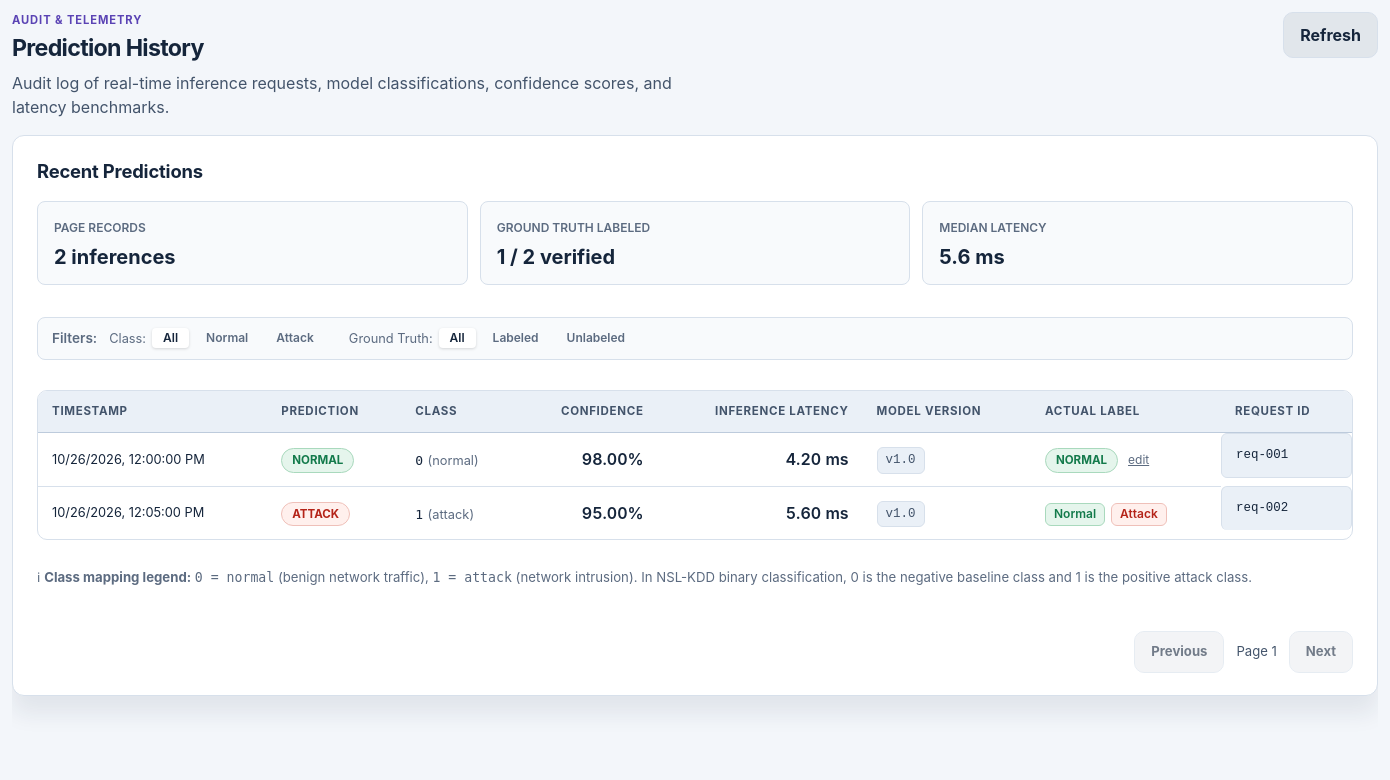
Test case: PredictionHistory › displays summary telemetry and filters records by class and label status
The width and height of the screenshot is (1390, 780).
Expected: the text "req-001" is shown, [1221,433,1352,478]
Expected: the text "req-002" is shown, [1221,486,1352,530]
# Filter to attack only
Click the button "attack": coordinates (295, 338) [265,328,325,348]
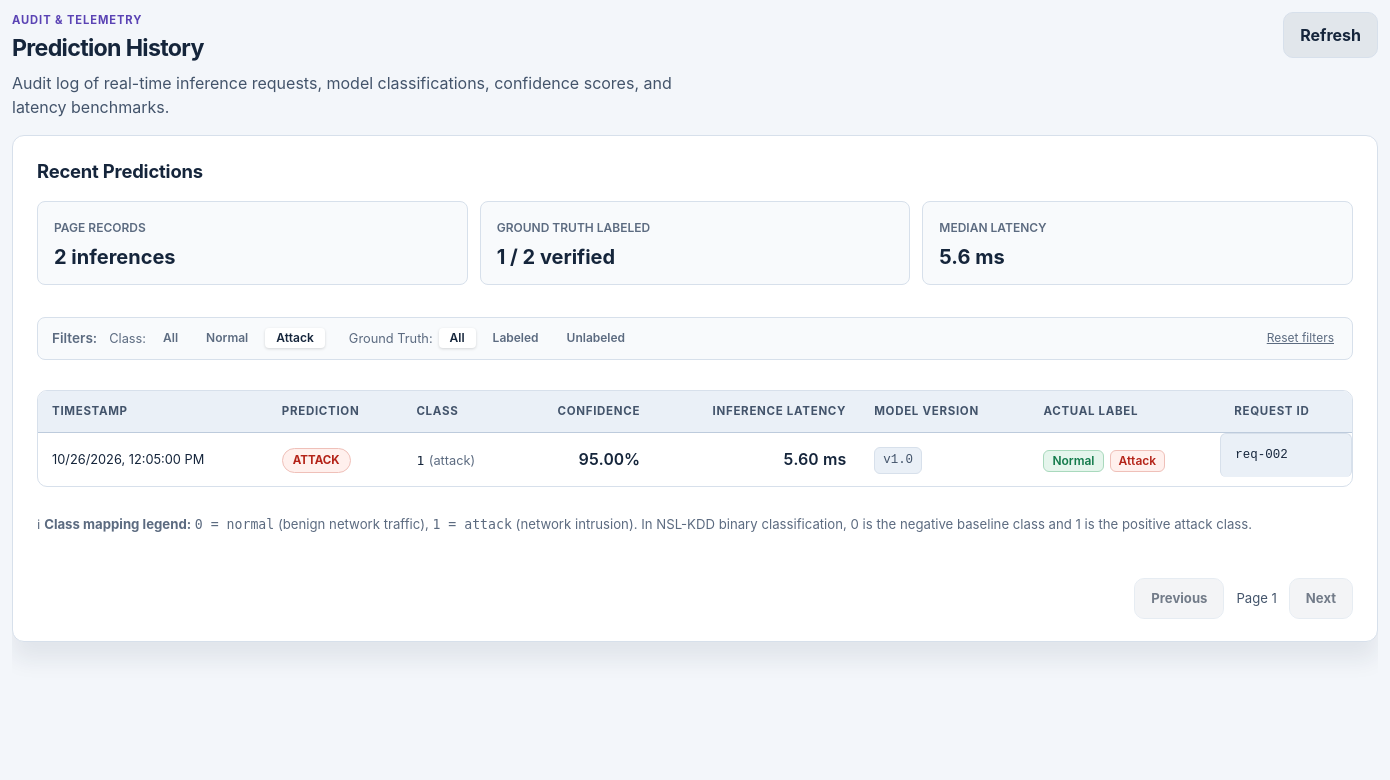
Expected: the text "req-002" is shown, [1220,433,1352,477]
Expected: the text "req-001" is gone
# Reset or filter to labeled only
Click the button "all" next to "Class:": coordinates (171, 338) [152,328,189,348]
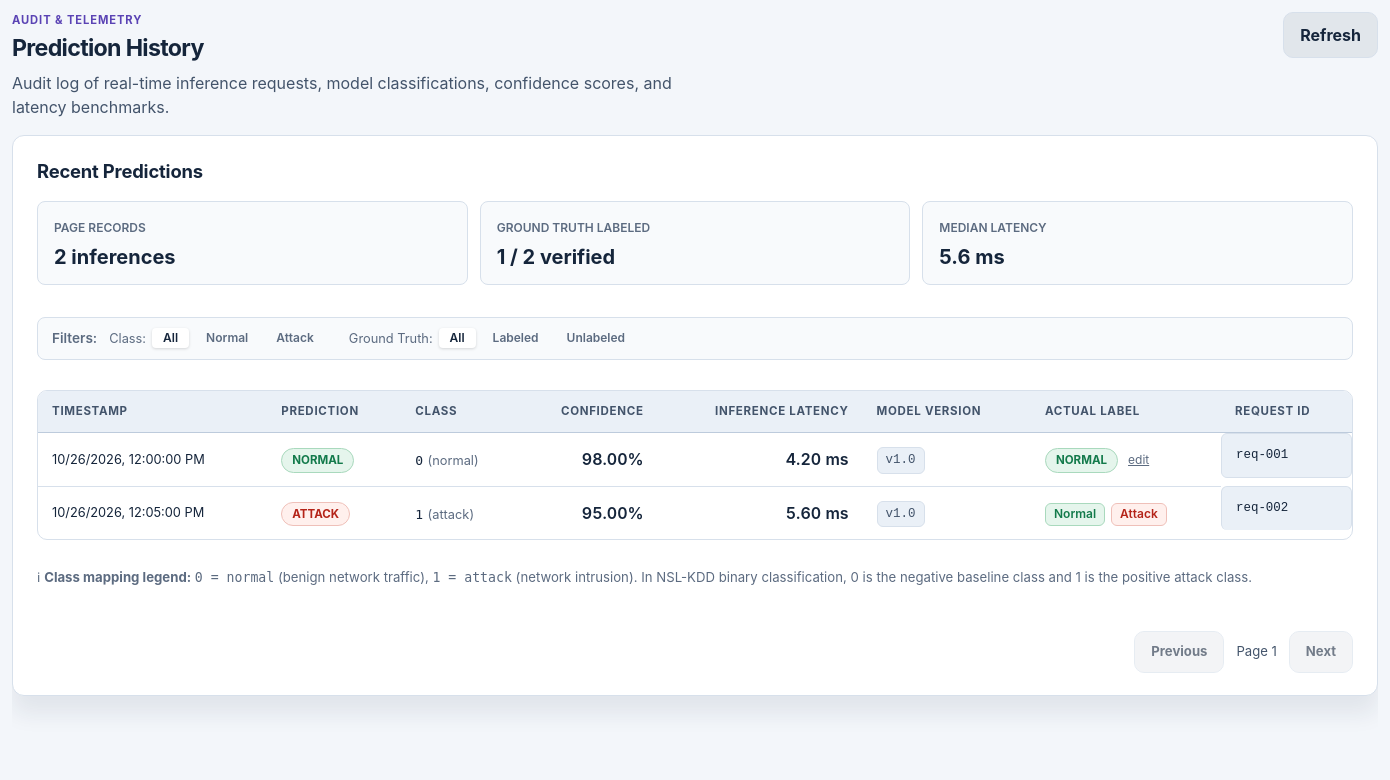
Click the button "labeled": coordinates (516, 338) [482,328,550,348]
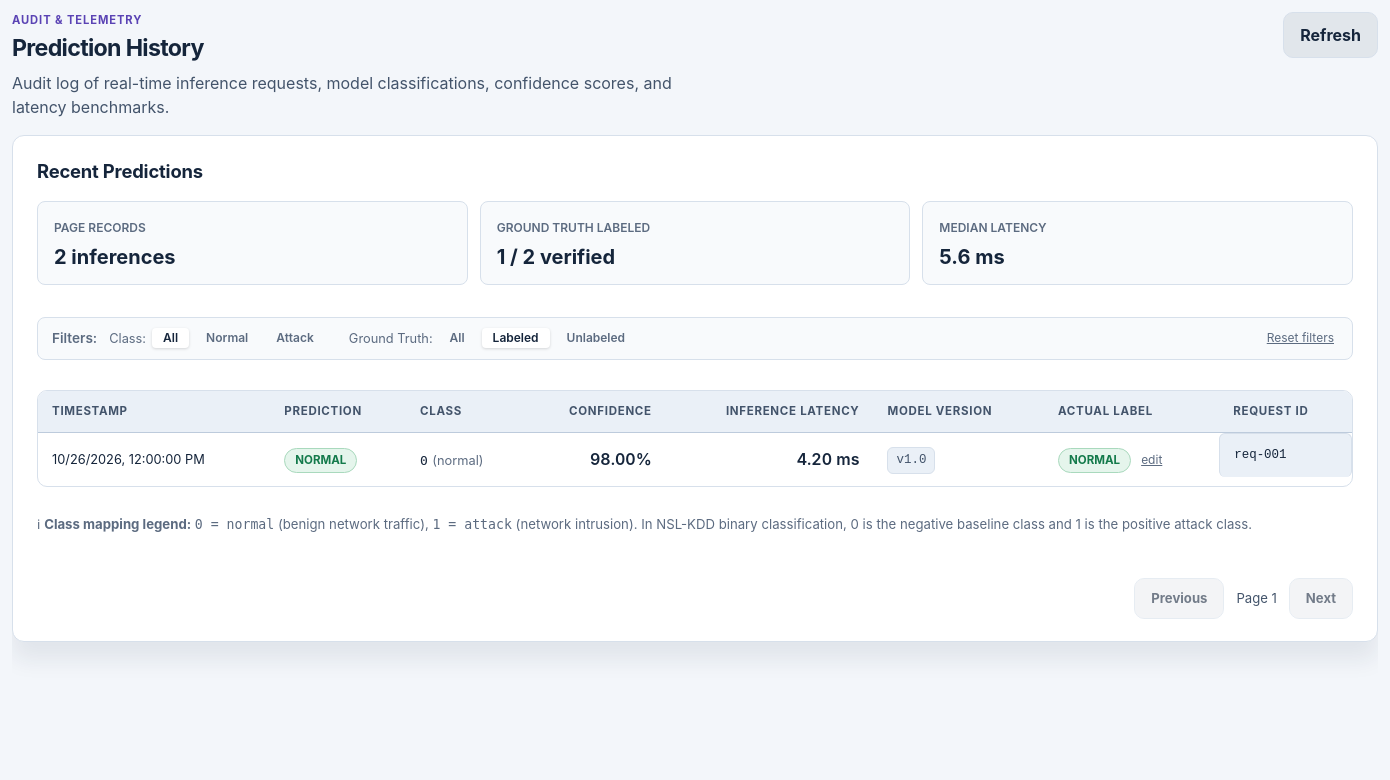
Expected: the text "req-001" is shown, [1219,433,1352,477]
Expected: the text "req-002" is gone
